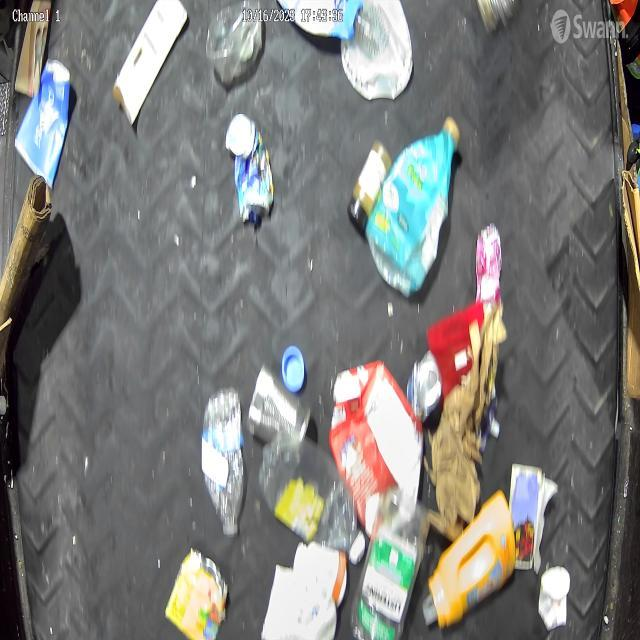can: (222, 110, 276, 230), (246, 358, 312, 451)
milk_jug: (260, 564, 339, 640)
non_white_jug: (366, 114, 461, 300), (423, 488, 521, 640)
plastic_bottle: (260, 428, 366, 565), (201, 385, 246, 537)
